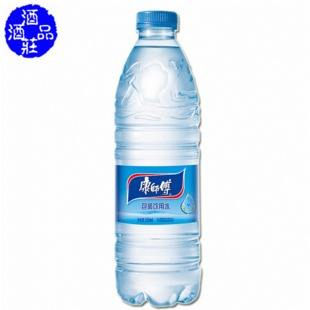amwater: (107, 1, 213, 304)
